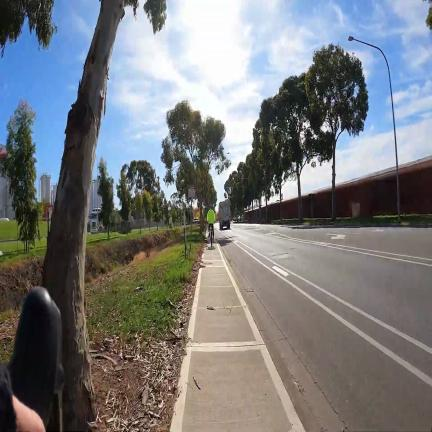Bike_Lane: (220, 240, 417, 432)
